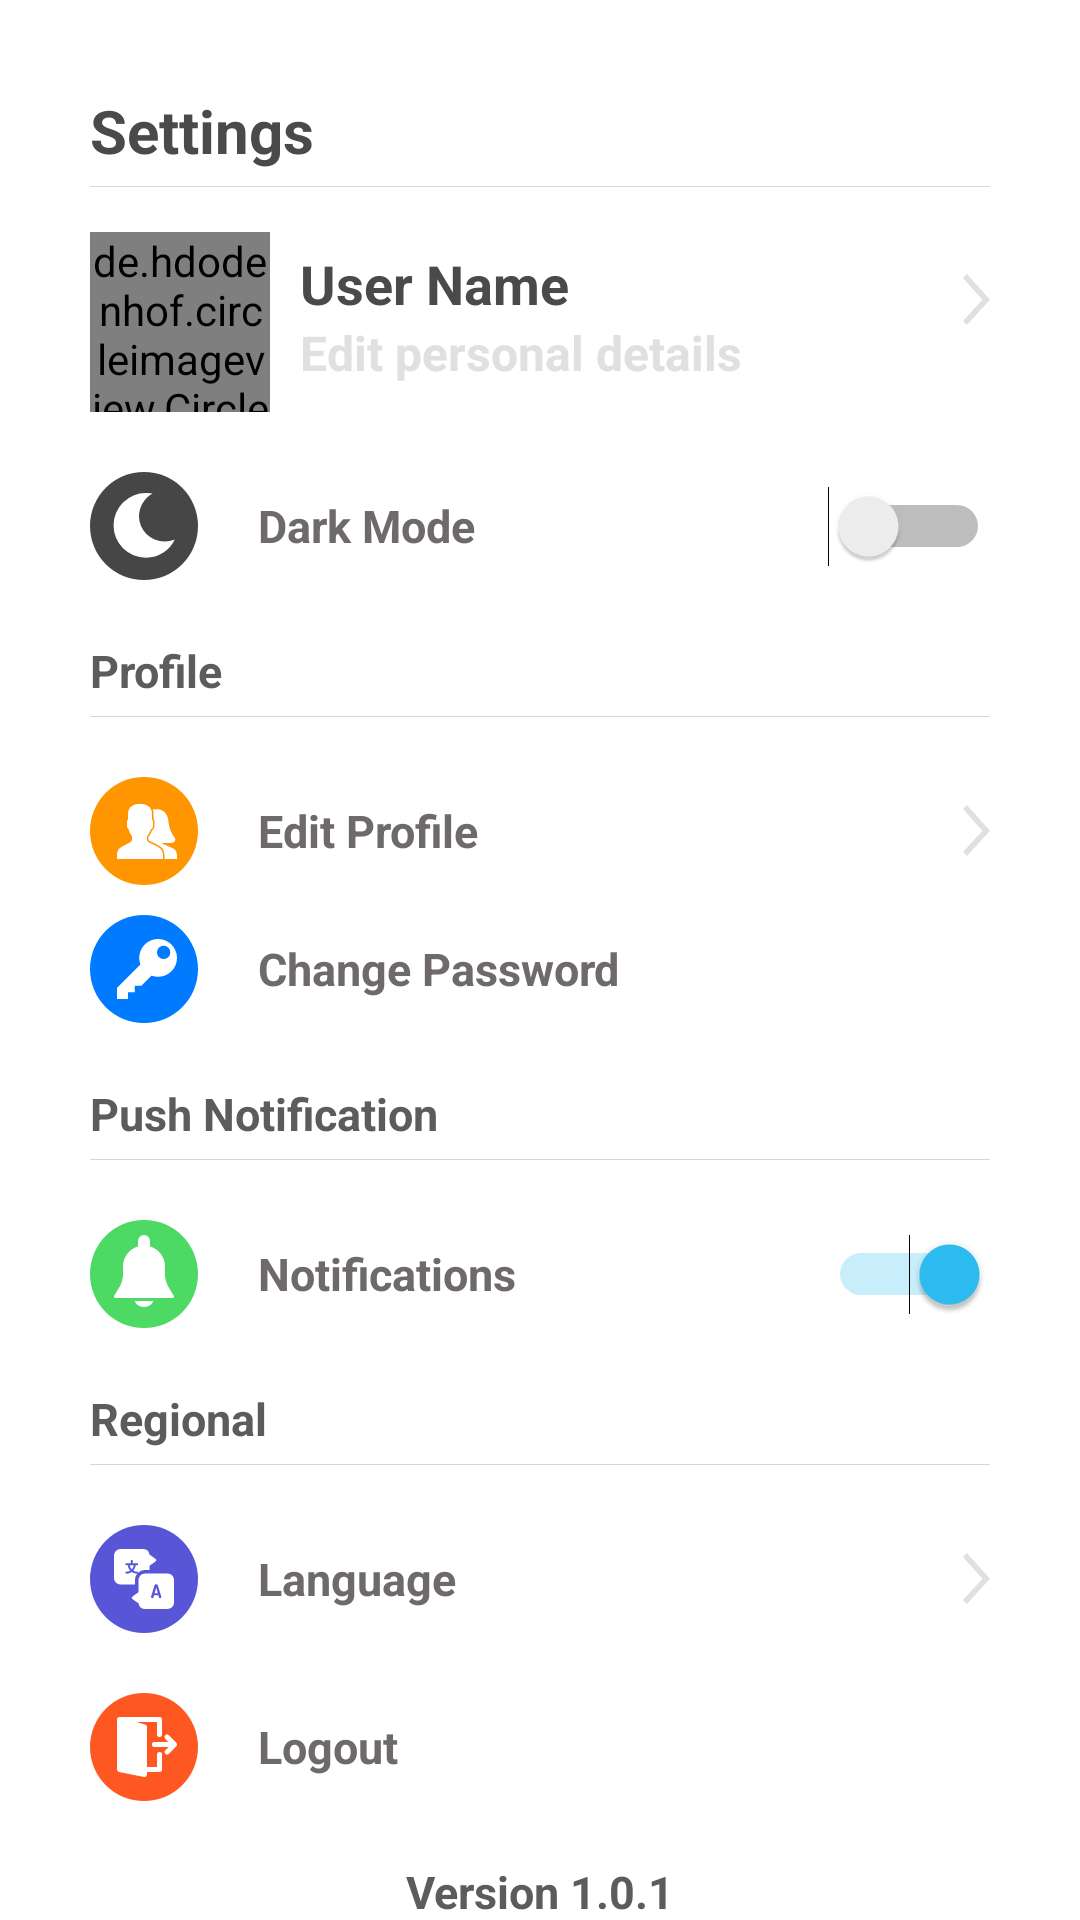

Icons on this 1080 × 1920 Android screen, each with the point to tap as (x=x, y=y):
right arrow: (x=976, y=299)
